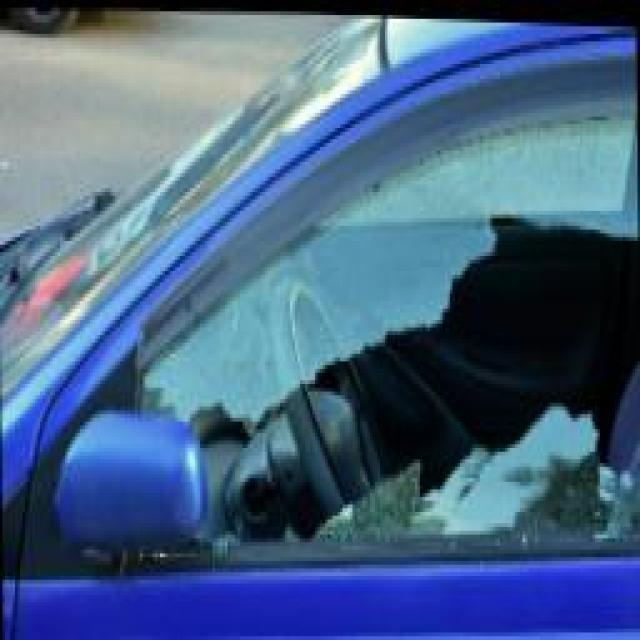Door: (225, 105, 635, 640)
